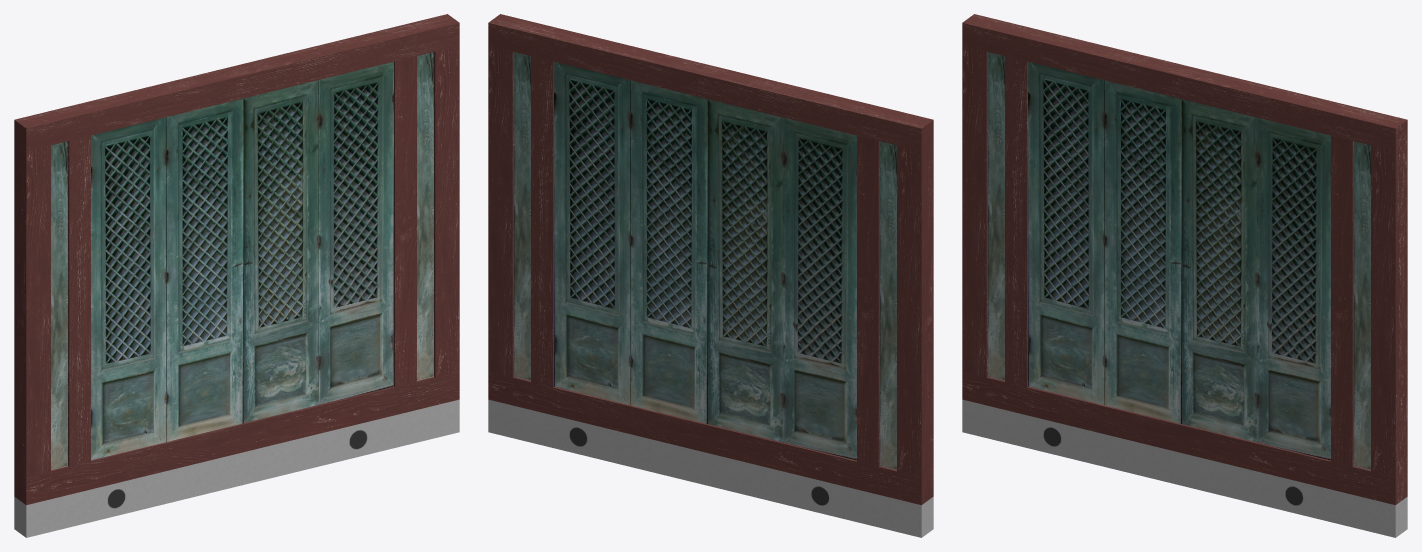
The model's file is SM_Geumsan_Mi_Wall_H.fbx.
3 renders of one model, left to right at view 1: azimuth 30°, elevation 25°; view 2: azimuth 150°, elevation 25°; view 3: azimuth 330°, elevation 25°, orthographic.
Parts seen in each view (by area): view 1: SM_Geumsan_Mi_Wall_H; view 2: SM_Geumsan_Mi_Wall_H; view 3: SM_Geumsan_Mi_Wall_H.
Part boxes in pixels (x1=…): SM_Geumsan_Mi_Wall_H: x1=14, y1=14, x2=459, y2=537; SM_Geumsan_Mi_Wall_H: x1=488, y1=14, x2=933, y2=537; SM_Geumsan_Mi_Wall_H: x1=962, y1=14, x2=1407, y2=537.
Bounding box in the file's own units: 414 × 373 × 20.
